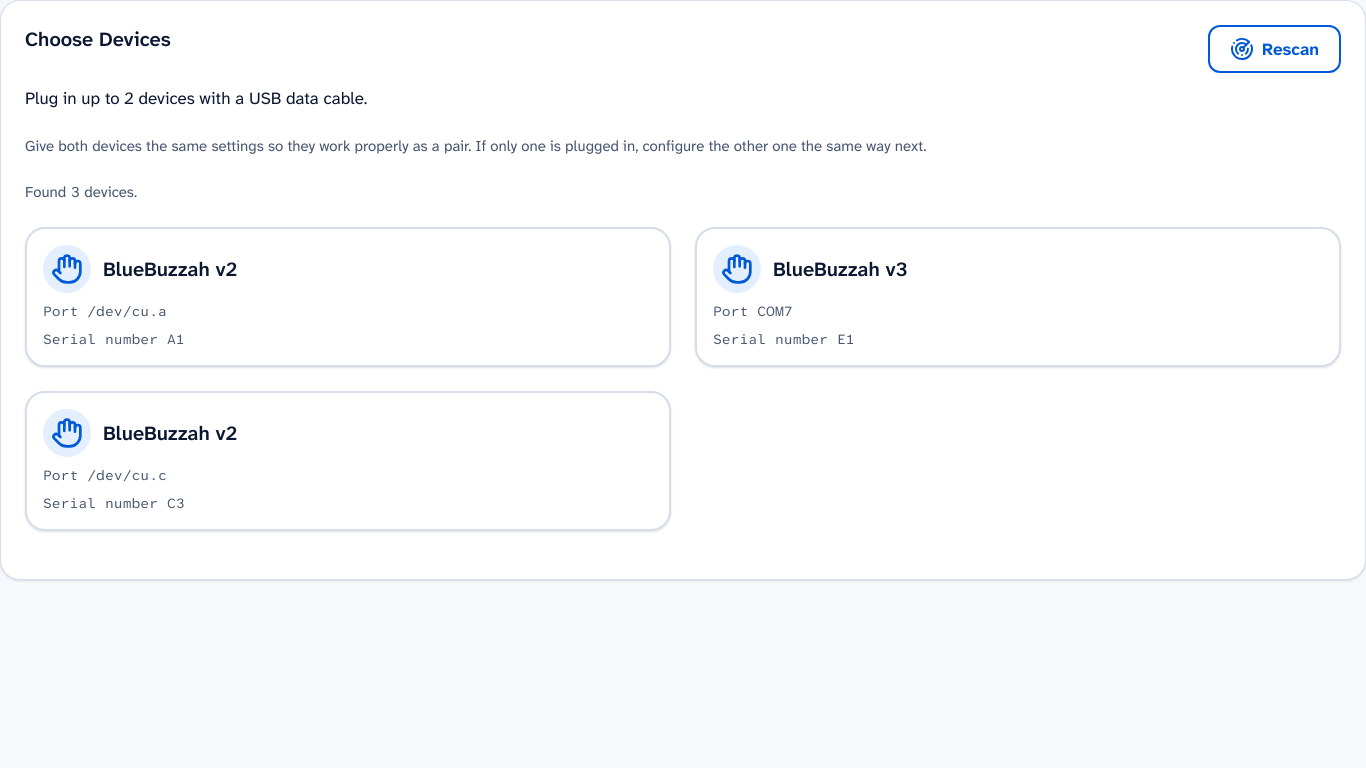
Test: DeviceSelection › configure mode (same card, no roles) › allows a v2 and a v3 together, and says when the limit is reached
This screenshot has width=1366, height=768.
Click the button "BlueBuzzah v2 Port /dev/cu.a Serial number A1": (67, 269) [25, 227, 671, 367]
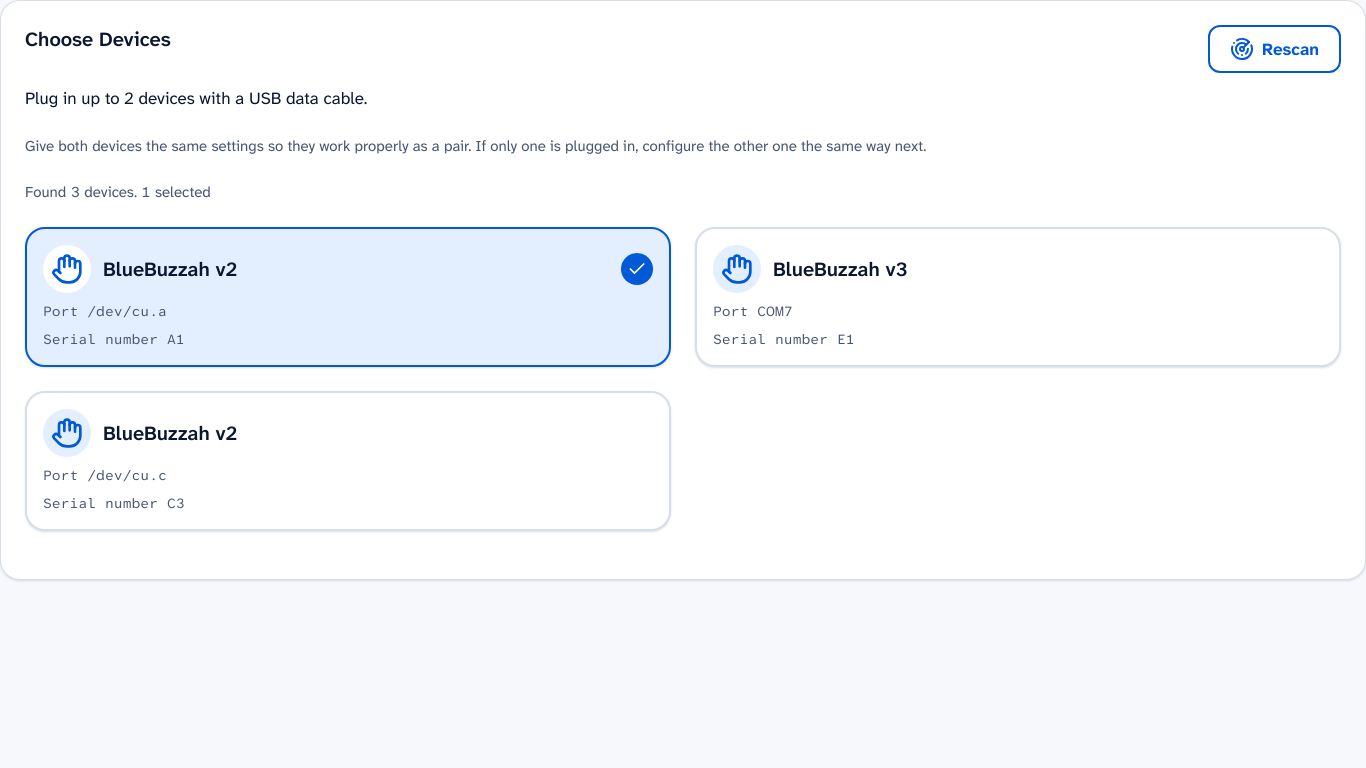
Click the button "BlueBuzzah v3 Port COM7 Serial number E1": (737, 269) [695, 227, 1341, 367]
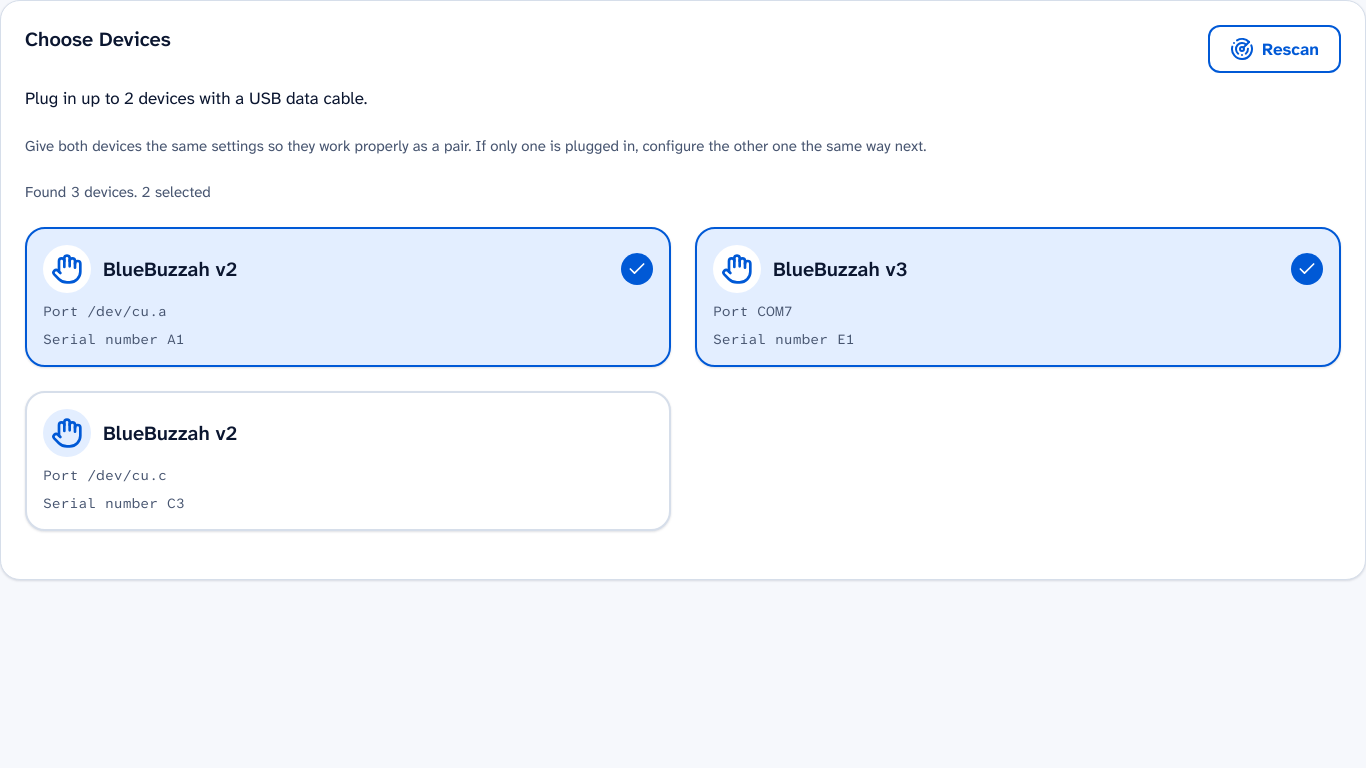
Click the button "BlueBuzzah v2 Port /dev/cu.c Serial number C3": (67, 433) [25, 391, 671, 531]
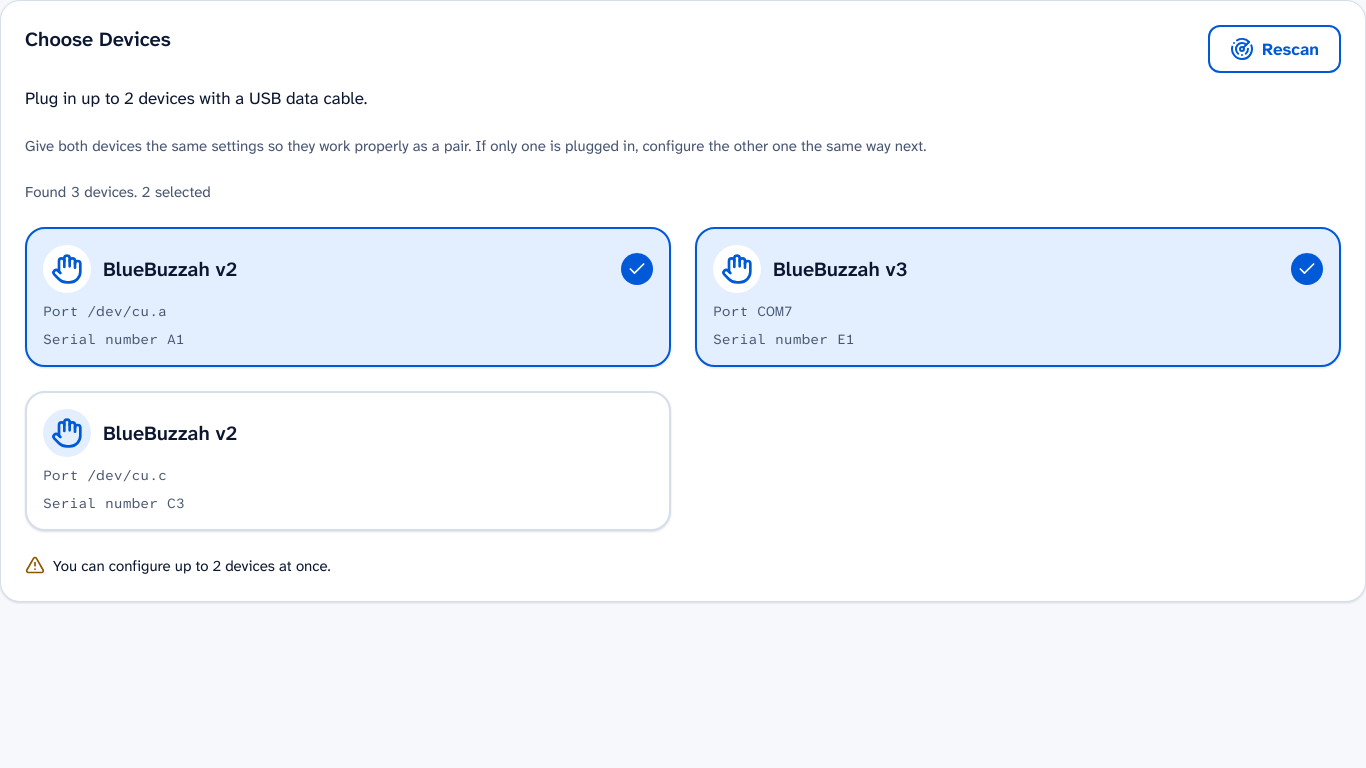
Expected: the text "You can configure up to 2 devices at once." is shown, [25, 555, 331, 576]
